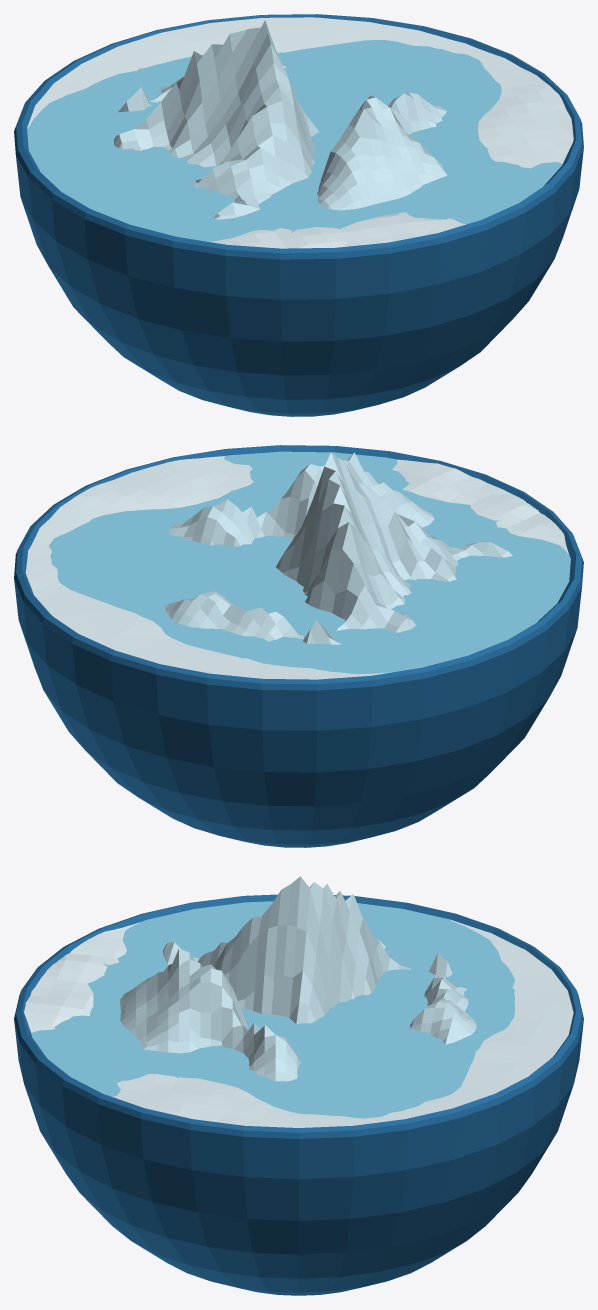
Rendered from icon-polarsea-1.dae.
3 renders of one model, top to bottom at view 1: azimuth 30°, elevation 25°; view 2: azimuth 150°, elevation 25°; view 3: azimuth 270°, elevation 25°, orthographic.
Parts seen in each view (by area): view 1: base, water, iceberg (×2), ice; view 2: base, water, iceberg (×2), ice; view 3: base, water, iceberg (×2), ice.
Boxes of the visible parts, left/top/right/bottom form: base: left=14, top=14, right=583, bottom=416; water: left=27, top=40, right=562, bottom=241; iceberg (×2): left=114, top=20, right=447, bottom=219; ice: left=27, top=17, right=573, bottom=248; base: left=14, top=445, right=583, bottom=847; water: left=49, top=451, right=570, bottom=674; iceberg (×2): left=165, top=452, right=512, bottom=644; ice: left=25, top=456, right=569, bottom=679; base: left=14, top=894, right=583, bottom=1295; water: left=31, top=901, right=515, bottom=1118; iceberg (×2): left=120, top=876, right=476, bottom=1081; ice: left=24, top=919, right=573, bottom=1127.
Bounding box in the file's own units: 199 × 146 × 199.
